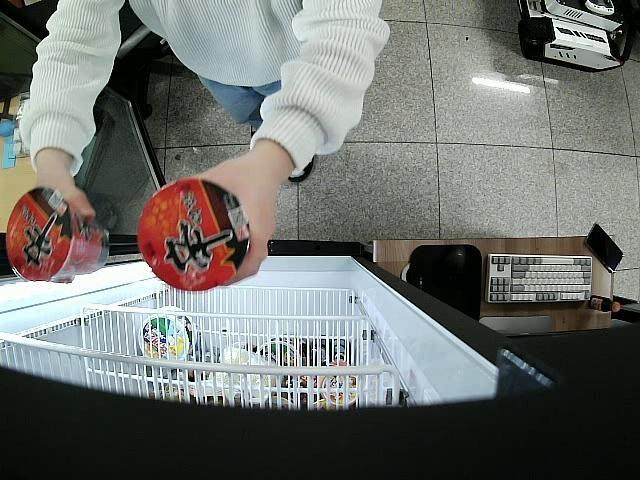02_shinRamen_S: (137, 178, 250, 293), (6, 188, 110, 284)
